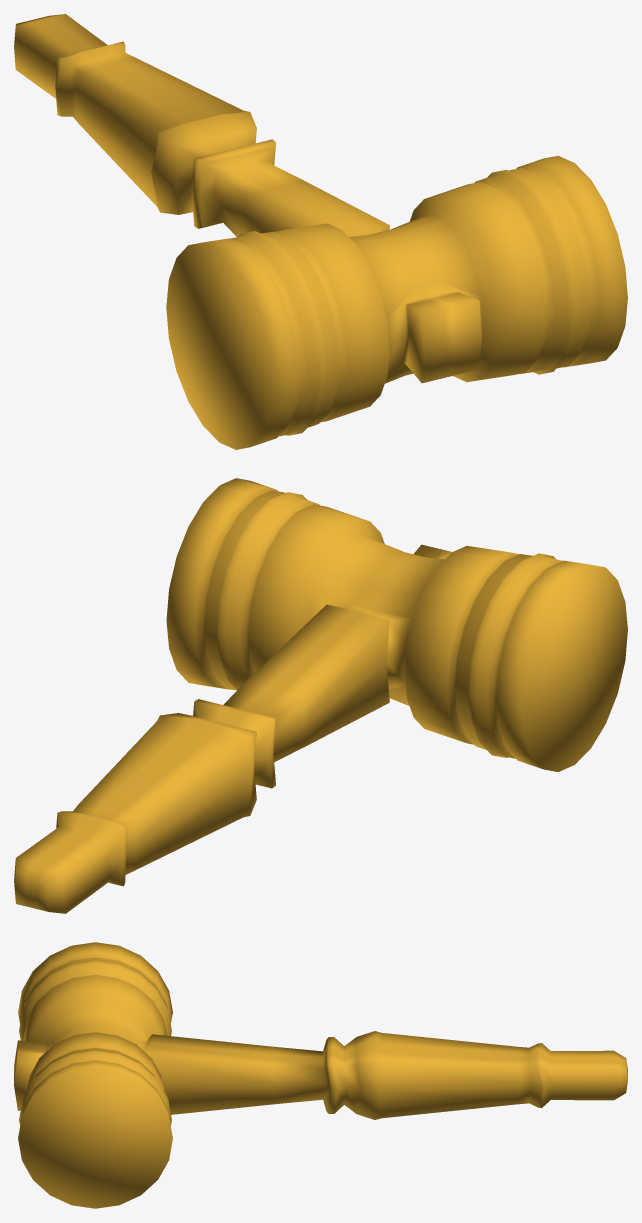
The model's file is Toy_hammer_2.fbx.
3 renders of one model, top to bottom at view 1: azimuth 30°, elevation 25°; view 2: azimuth 150°, elevation 25°; view 3: azimuth 270°, elevation 25°, orthographic. The views are drawn at different scales.
Visible parts, largest first — view 1: Toy_hammer; view 2: Toy_hammer; view 3: Toy_hammer.
Part boxes in pixels (x1,y1,x2,y2): Toy_hammer: (14,14,627,449); Toy_hammer: (14,478,627,913); Toy_hammer: (14,942,627,1208).
Size of the model in its own units: 475 by 239 by 947.
